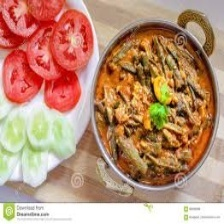sabzi: (92, 22, 222, 190)
